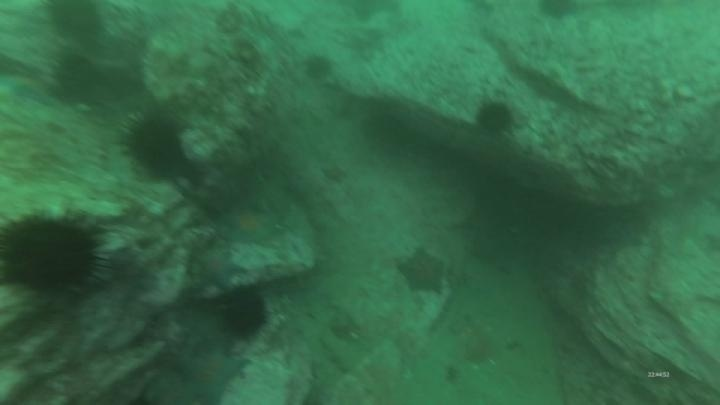echinus: (0, 210, 107, 299), (118, 108, 191, 181), (218, 286, 270, 341), (361, 107, 416, 159), (50, 52, 103, 105), (44, 1, 106, 43), (474, 99, 516, 137), (301, 52, 335, 84), (535, 0, 581, 23)
starfish: (170, 343, 251, 404), (395, 246, 450, 297), (219, 203, 281, 247), (192, 245, 246, 292), (0, 70, 59, 108), (318, 160, 349, 185)
